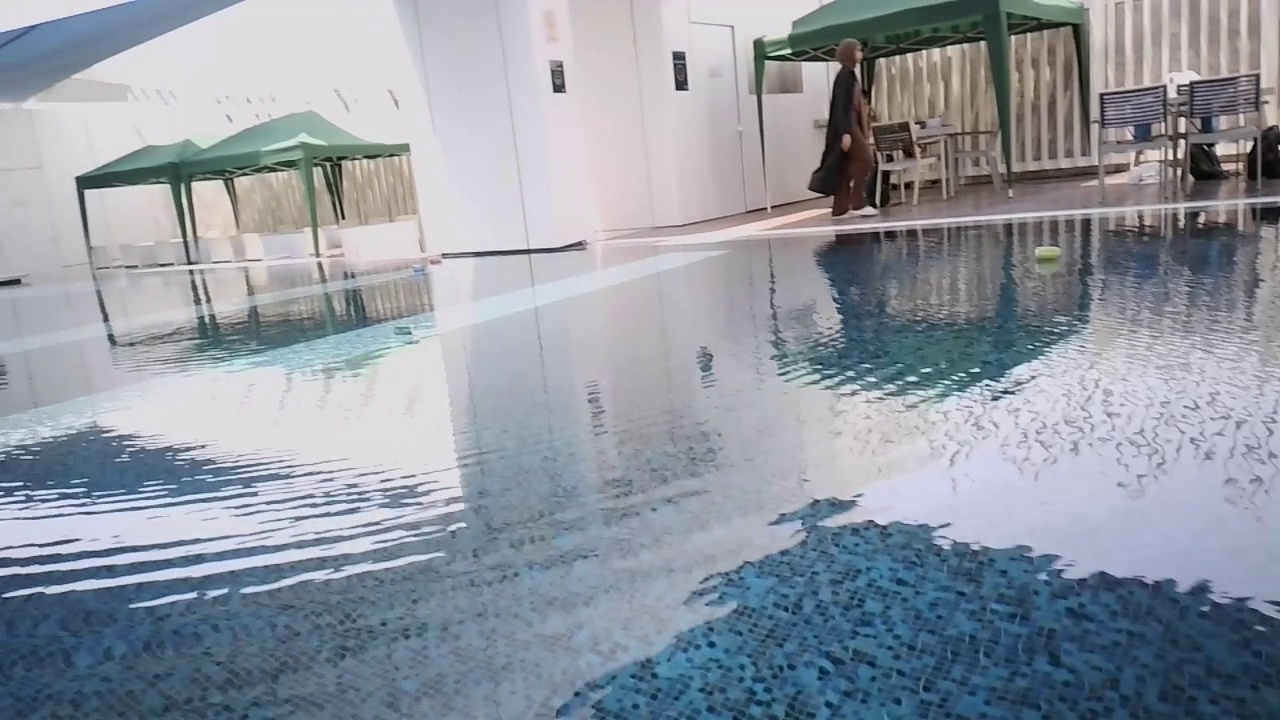debris: (1031, 242, 1065, 261), (390, 318, 418, 340), (408, 261, 428, 275), (423, 255, 443, 267)
